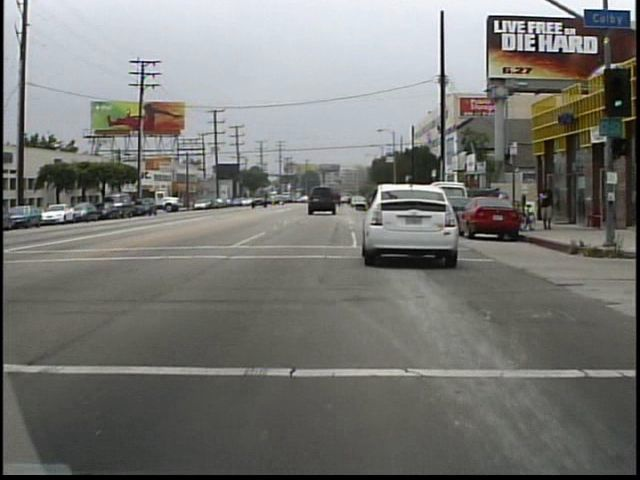person: (536, 177, 557, 233)
